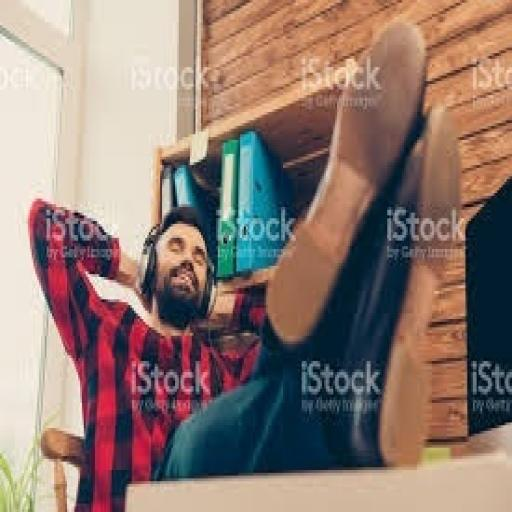listening_to_music: (24, 17, 462, 509)
